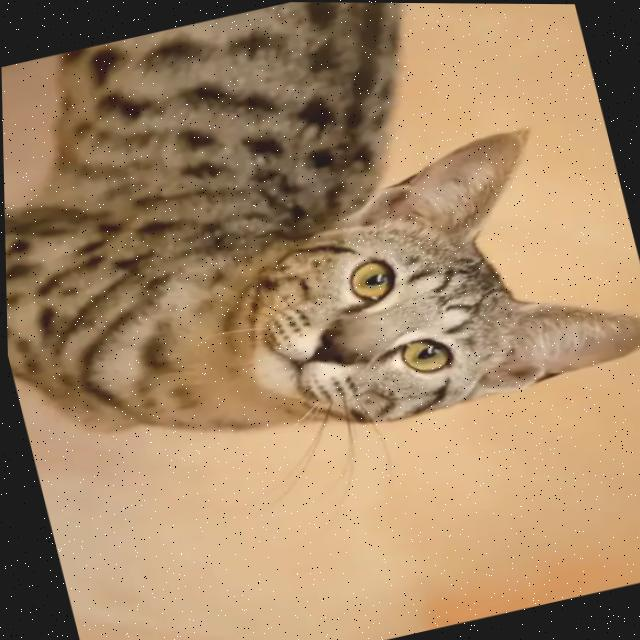Savannah: (0, 0, 640, 510)
